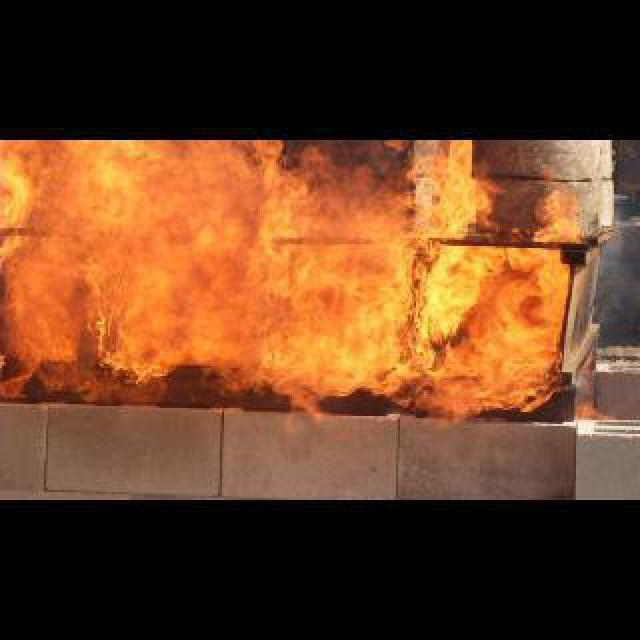Fire: (4, 142, 590, 428)
